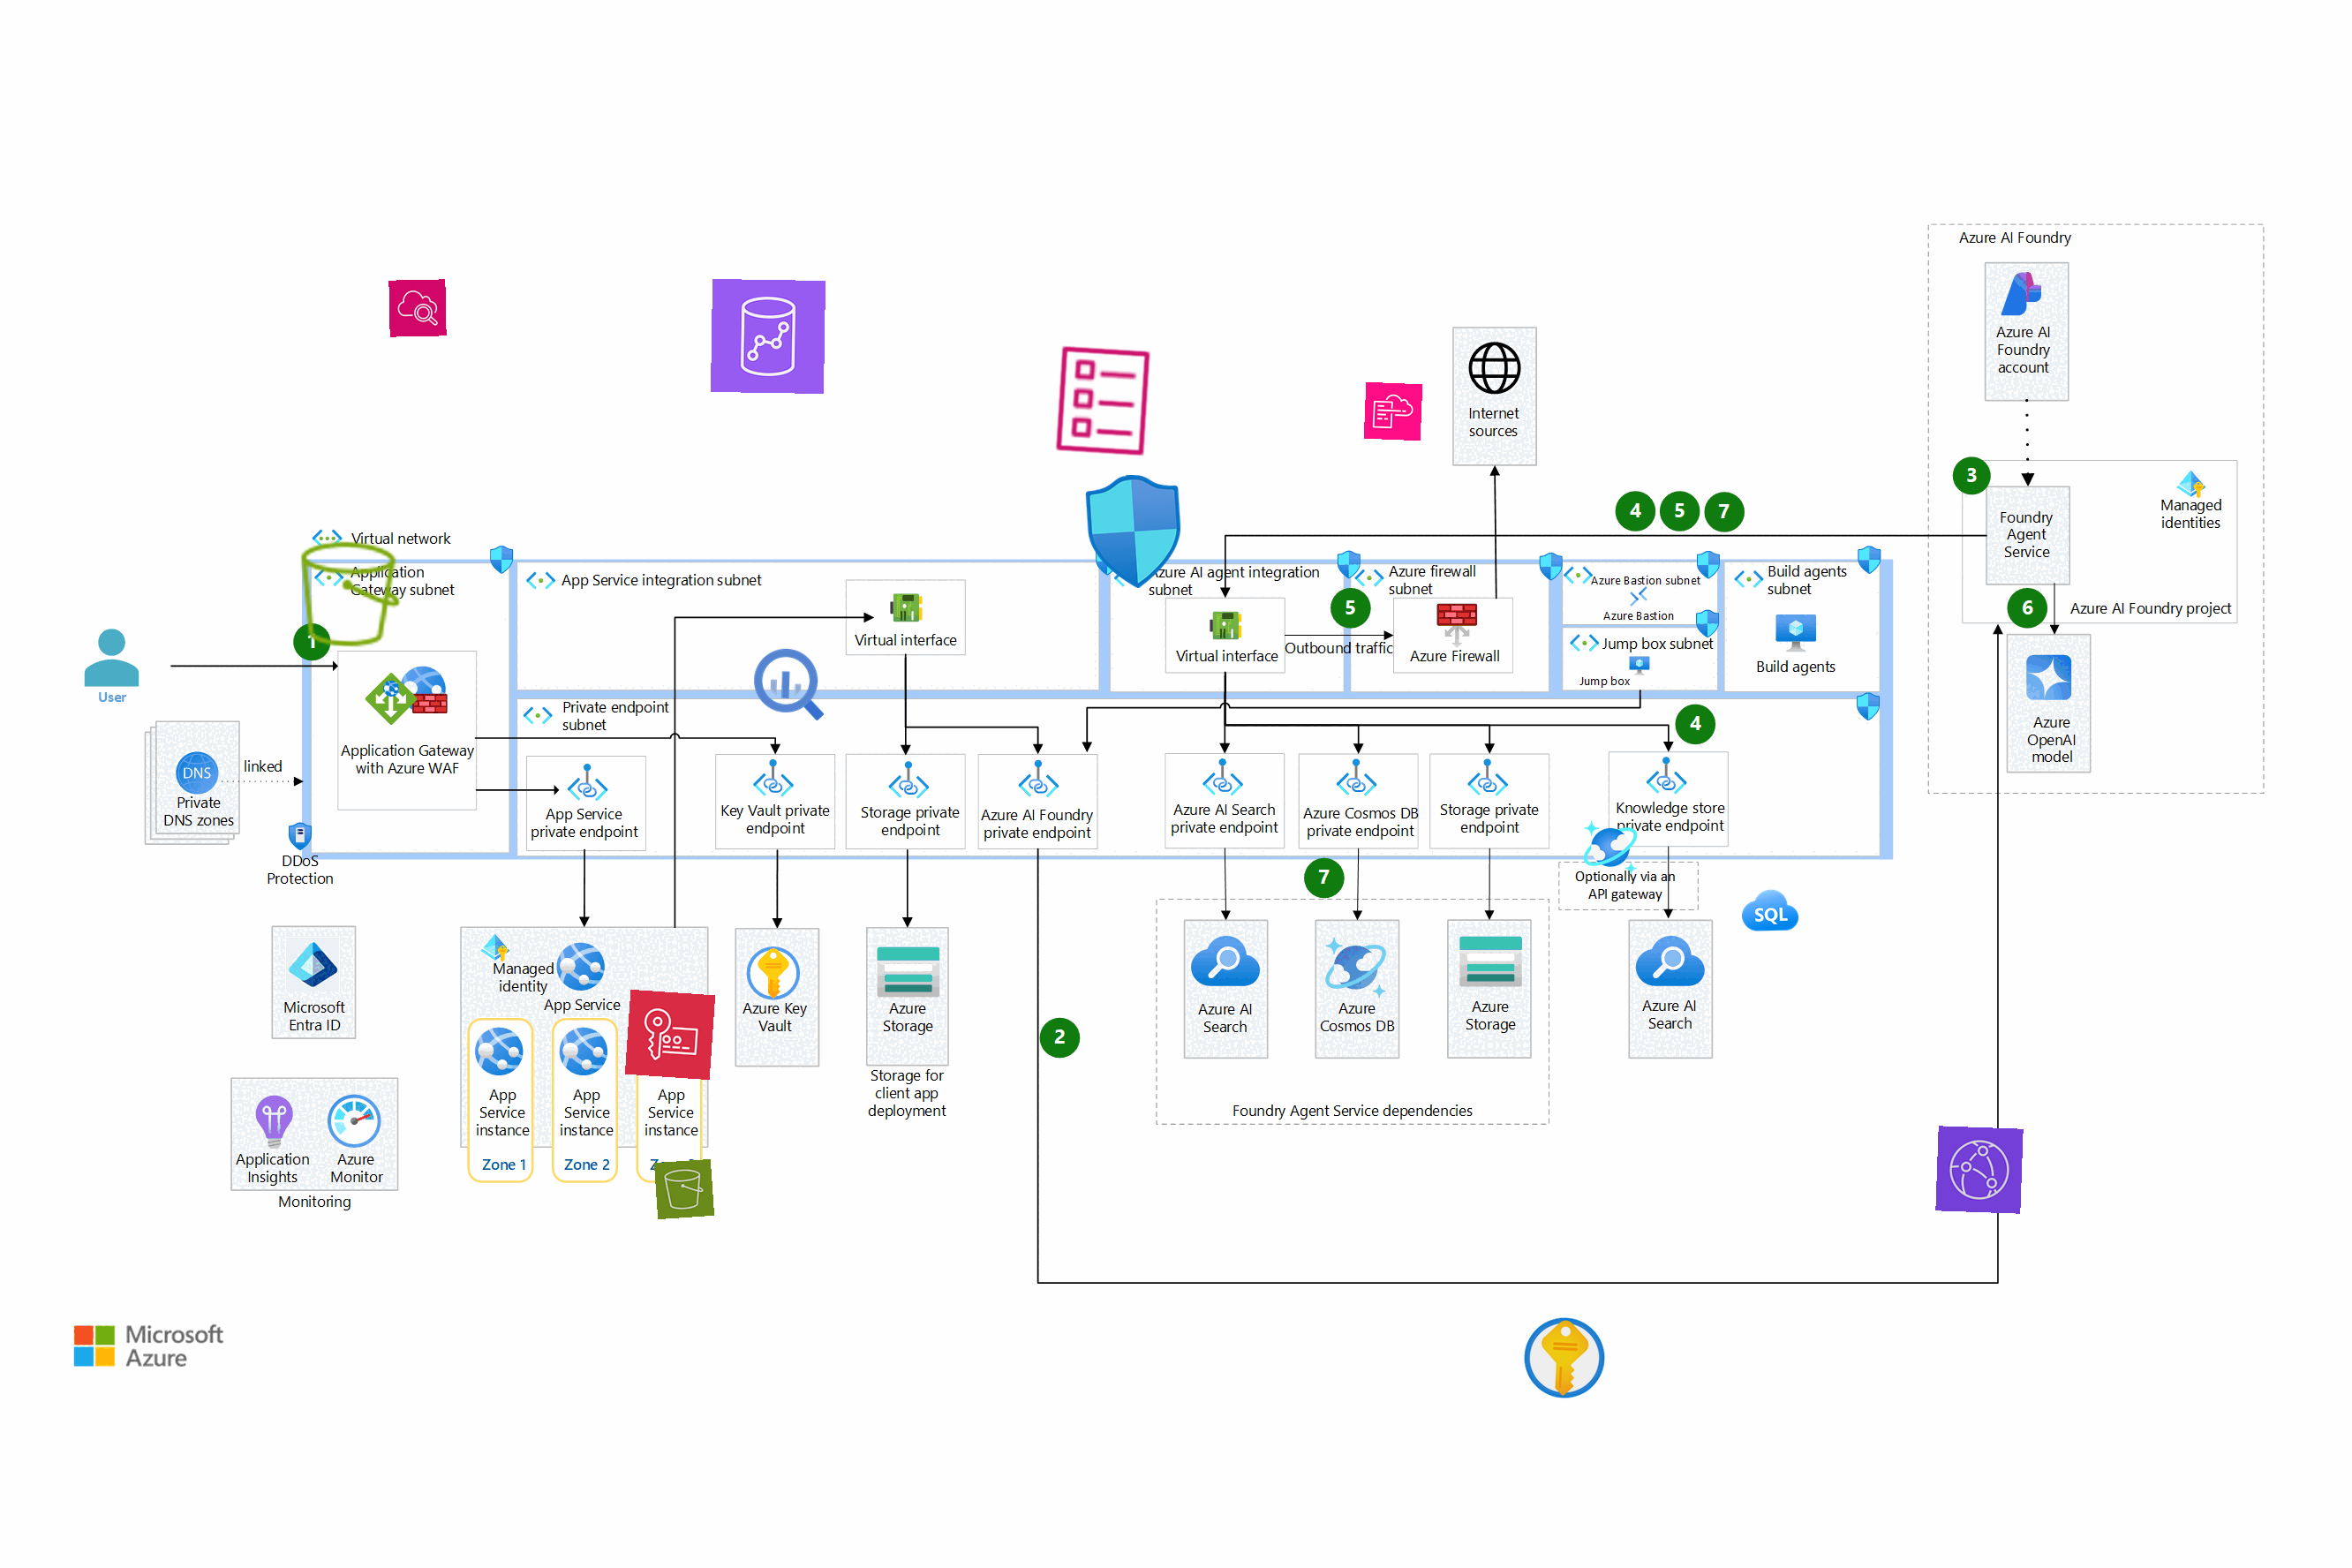aws_amazon_cloudfront: (1935, 1125, 2023, 1214)
aws_amazon_cloudwatch: (388, 278, 446, 338)
aws_amazon_redshift: (710, 278, 826, 395)
aws_amazon_simple_storage_service: (653, 1158, 716, 1220)
aws_cloudformation: (1363, 381, 1423, 441)
aws_cloudformation_template: (1041, 341, 1162, 460)
aws_key_management_service: (625, 989, 716, 1081)
aws_simple_storage_service_bucket: (290, 535, 409, 653)
azure_cosmos_db: (1582, 819, 1640, 877)
azure_key_vaults: (1519, 1312, 1610, 1403)
azure_network_security_groups: (1073, 471, 1195, 593)
azure_sql: (1741, 882, 1799, 940)
gcp_bigquery: (745, 640, 833, 728)
